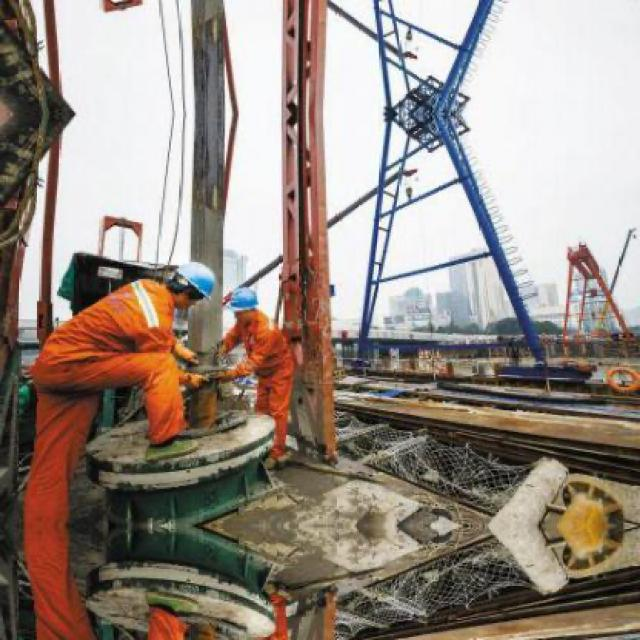helmet: (170, 262, 218, 310), (228, 284, 264, 327)
